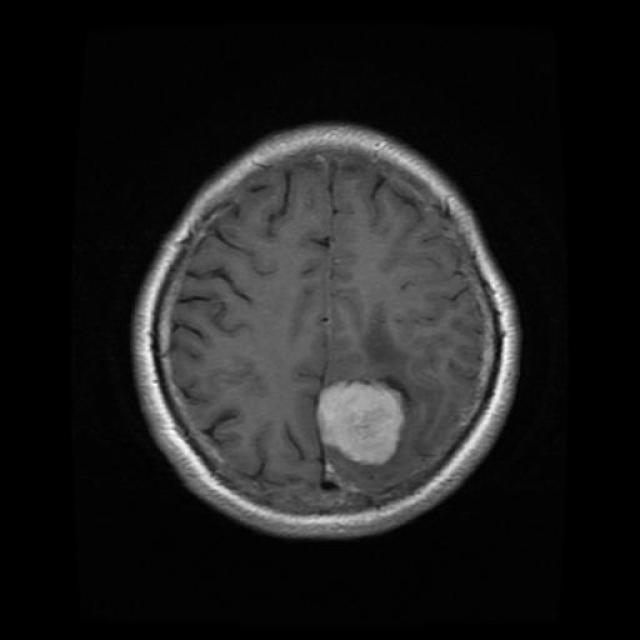meningioma: (318, 380, 406, 465)
